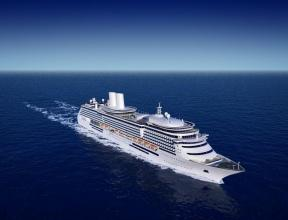youlun: (77, 87, 249, 182)
